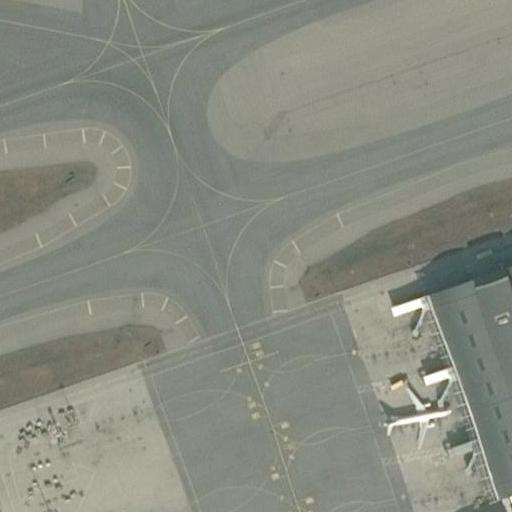Aircraft: (377, 377, 453, 446)
